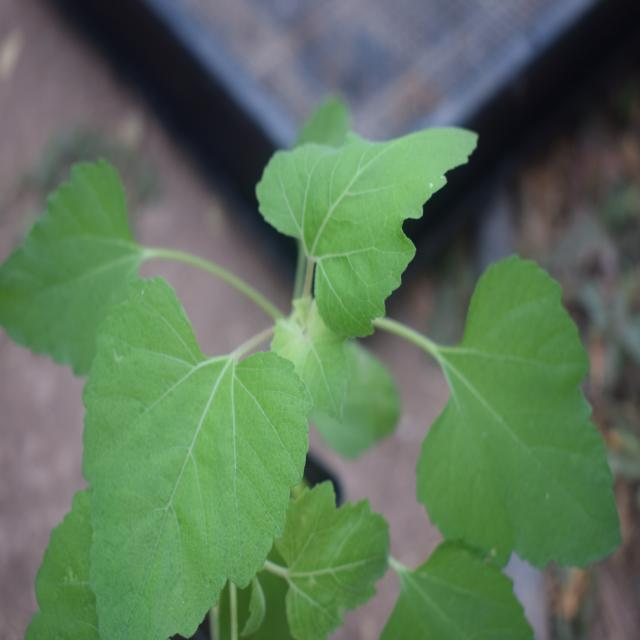cocklebur: (14, 136, 589, 612)
